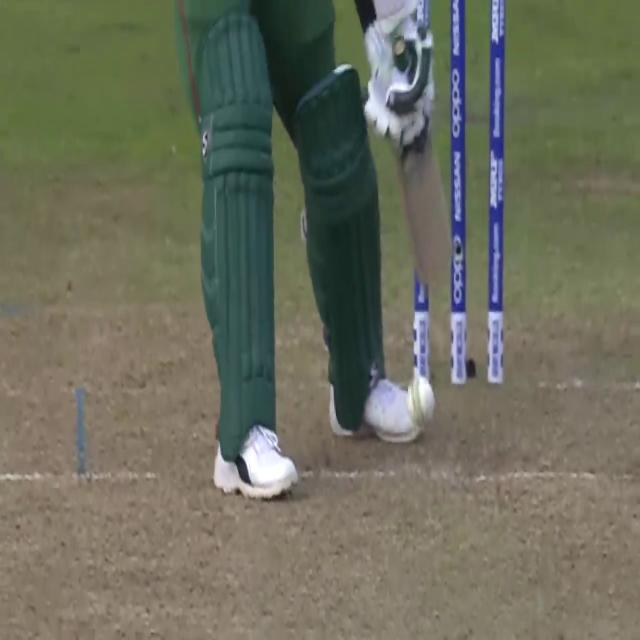ball: (404, 372, 438, 432)
